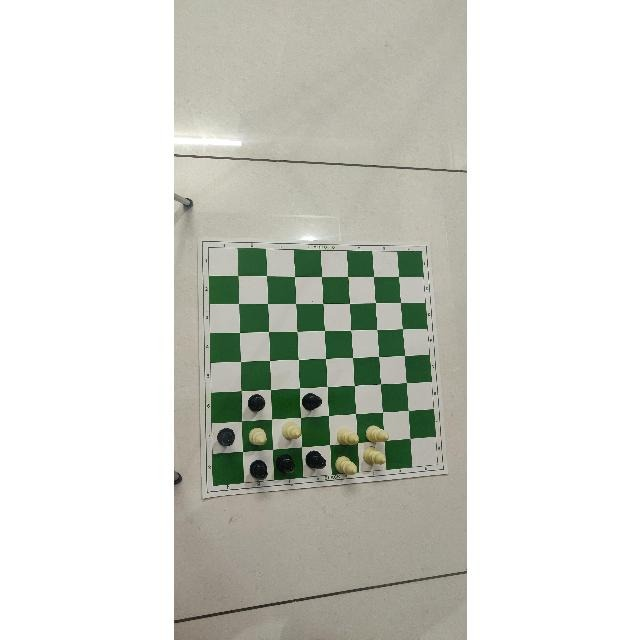black-bishop: (275, 454, 295, 474), (304, 451, 325, 469), (249, 460, 267, 480), (301, 393, 321, 411), (216, 428, 234, 446), (247, 394, 265, 412)
white-bishop: (362, 446, 386, 466), (333, 456, 356, 476), (336, 428, 358, 446), (364, 425, 387, 442), (281, 421, 301, 439), (248, 428, 266, 446)
